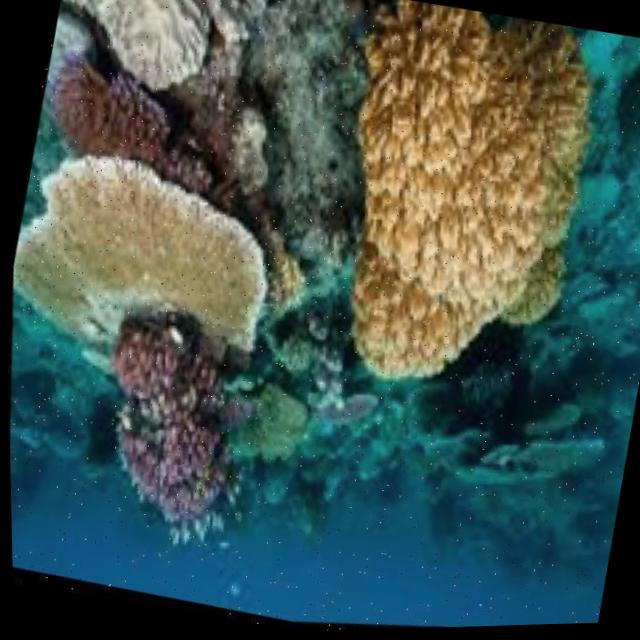Bleached Coral: (91, 0, 248, 108)
Healthy Coral: (260, 0, 612, 410), (6, 147, 283, 379), (43, 310, 263, 551), (25, 40, 192, 202)
